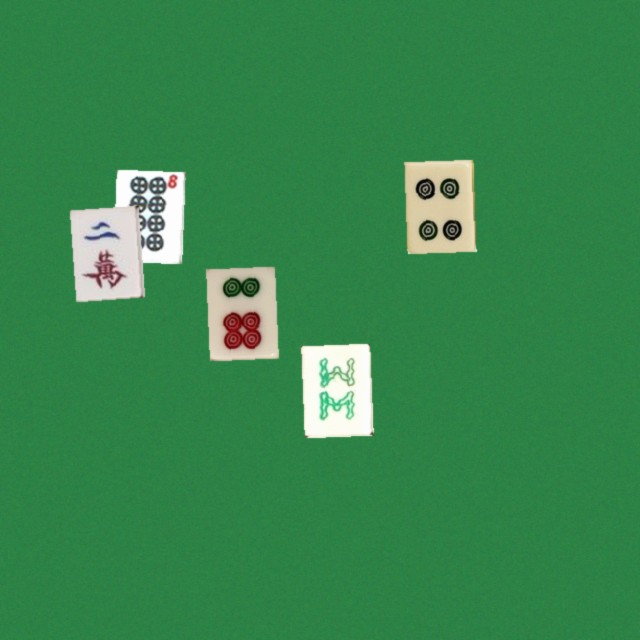tile: (206, 266, 275, 358), (301, 343, 370, 435), (404, 159, 473, 251), (113, 169, 182, 261), (69, 205, 138, 297)
